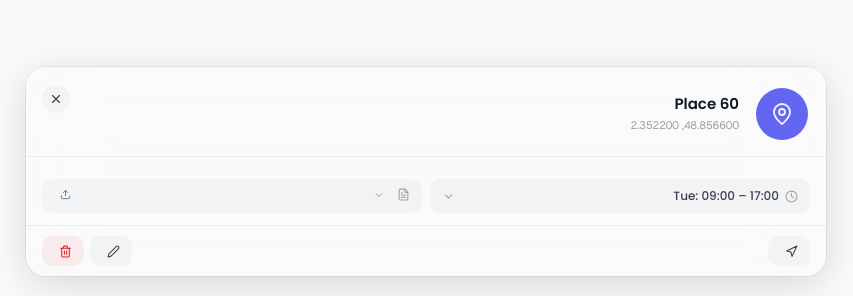
Scenario: PlaceInspector › FE-PLANNER-INSPECTOR-025: opening hours shown when available
# Wait for hours to load — the button text shows a day's hours line
Click the button "Tue: 09:00 – 17:00": [726, 196] box [430,179,810,213]
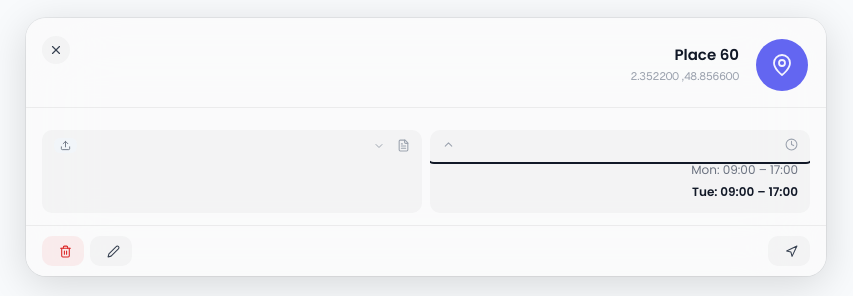
Check: the text "Mon: 09:00 – 17:00" is shown, box [691,161,798,178]
